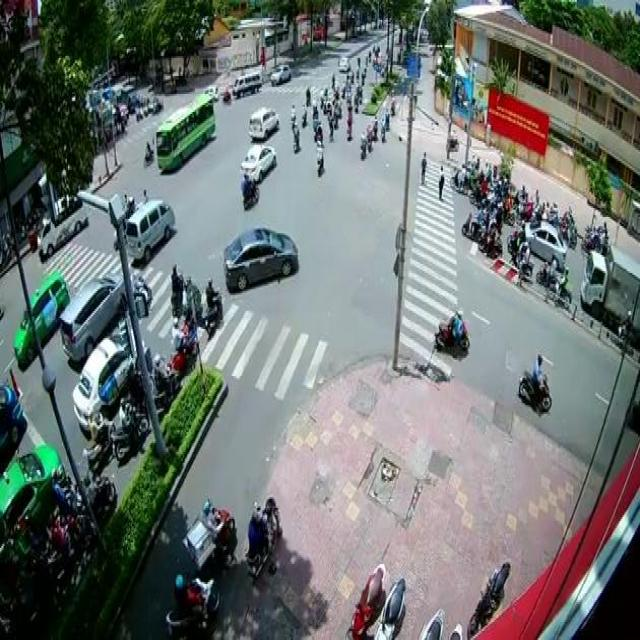bus: (154, 92, 216, 172)
car: (58, 273, 127, 360), (70, 334, 132, 430), (12, 268, 70, 364), (222, 224, 296, 289), (523, 219, 566, 269), (240, 142, 277, 182), (247, 103, 278, 137)
motorcycle: (517, 352, 552, 410), (433, 309, 470, 349), (201, 275, 223, 334), (239, 172, 259, 210)
truck: (578, 242, 640, 333), (125, 195, 176, 266)
